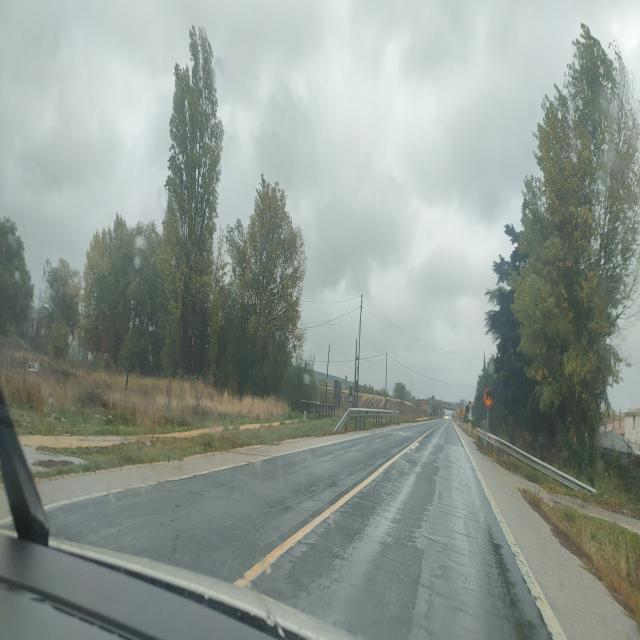Poth-hole: (285, 457, 412, 597)
